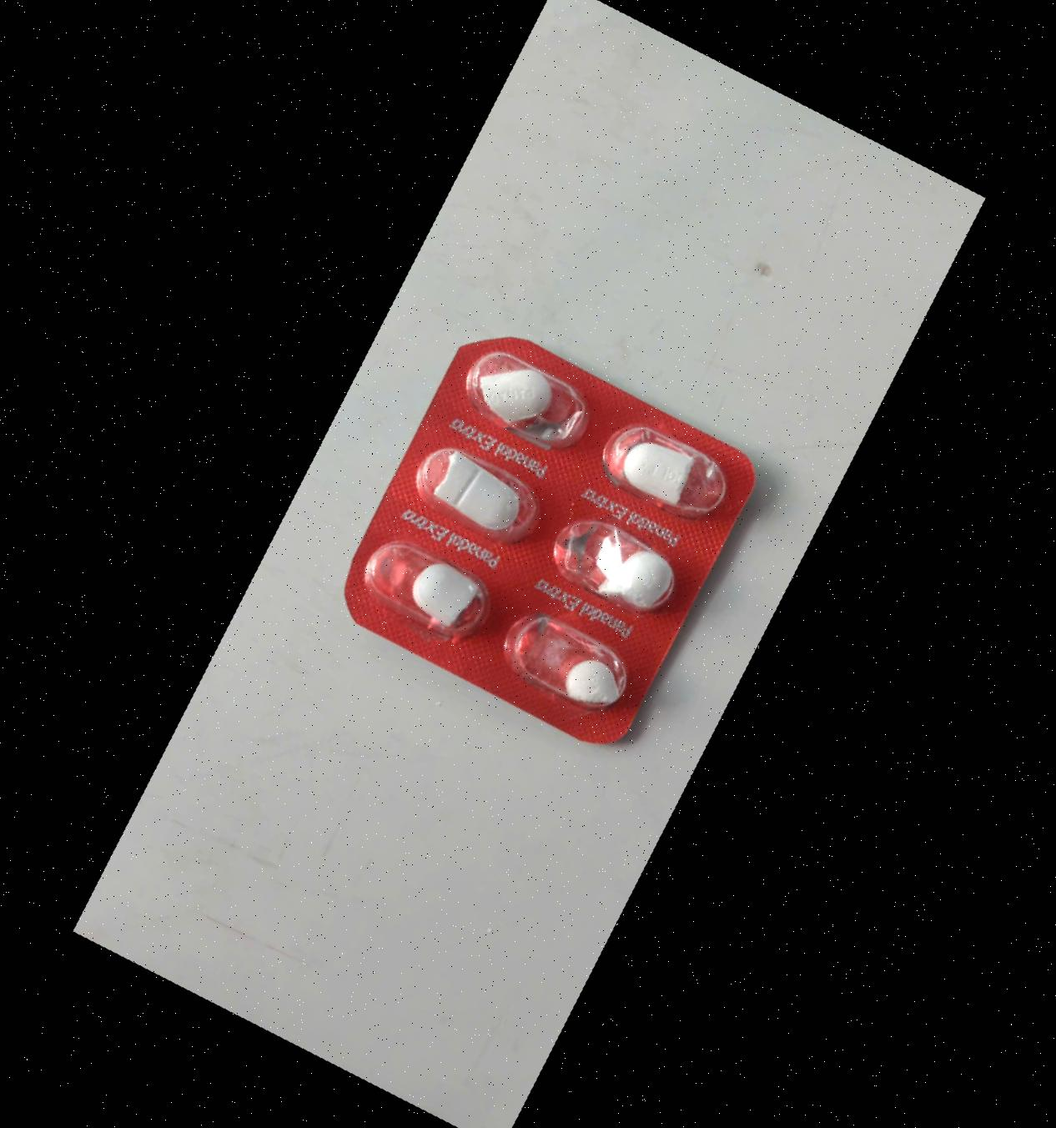Partial: (437, 336, 606, 471), (480, 592, 649, 727), (395, 430, 564, 565), (592, 414, 761, 549), (530, 504, 699, 639), (349, 521, 518, 656)
